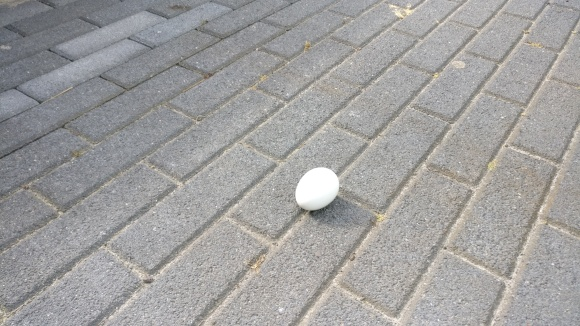egg: (296, 166, 339, 215)
